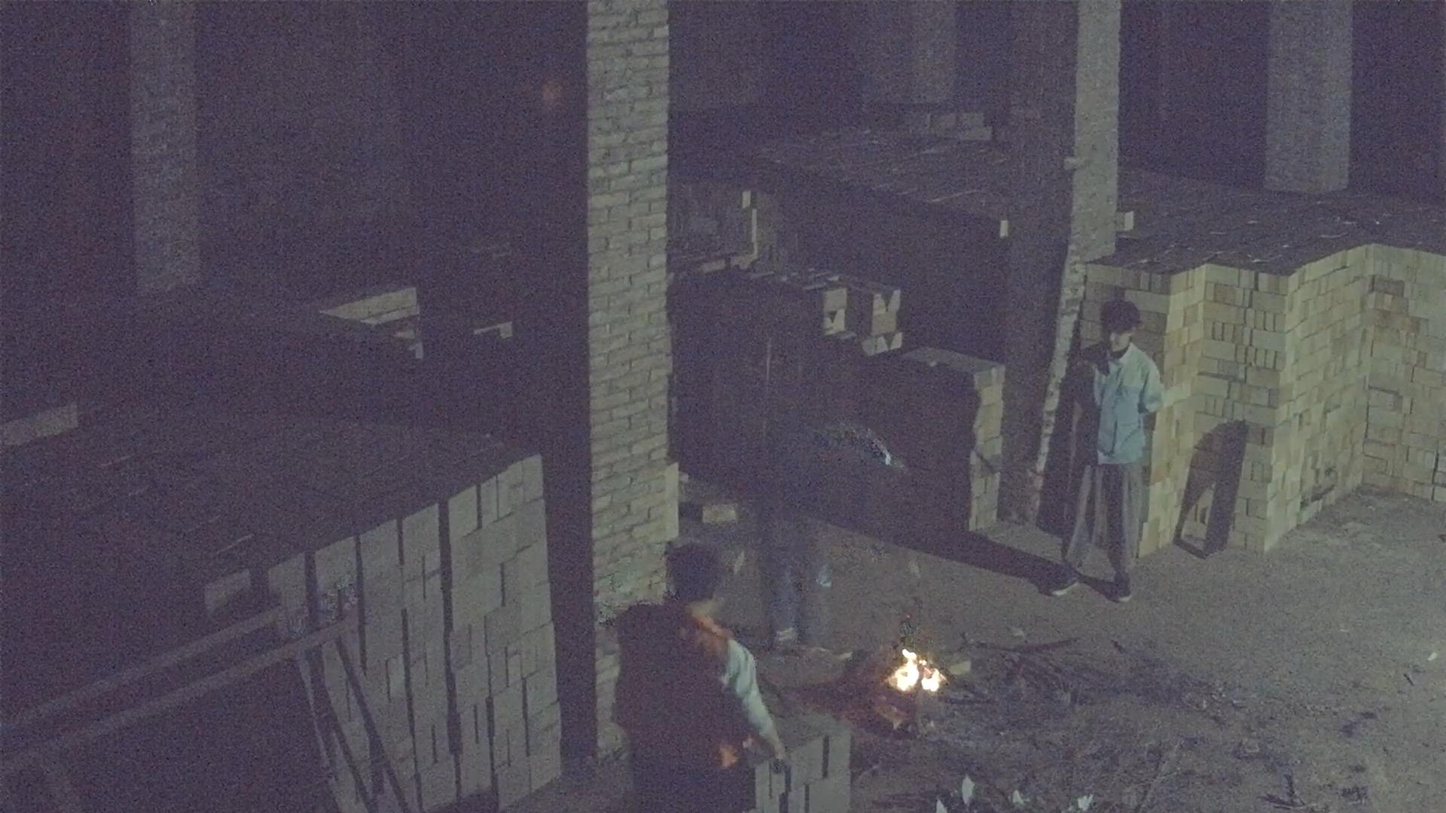fire: (887, 647, 947, 694)
